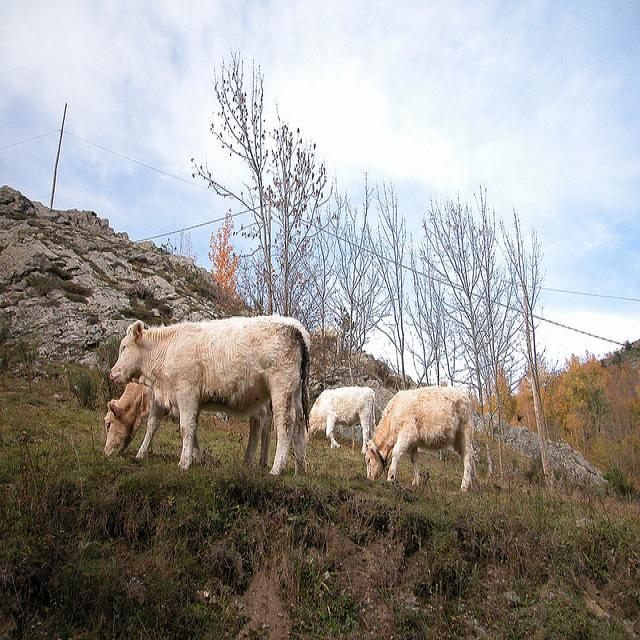cow: (108, 312, 309, 473), (362, 384, 473, 489), (307, 385, 375, 455), (99, 379, 146, 455)
